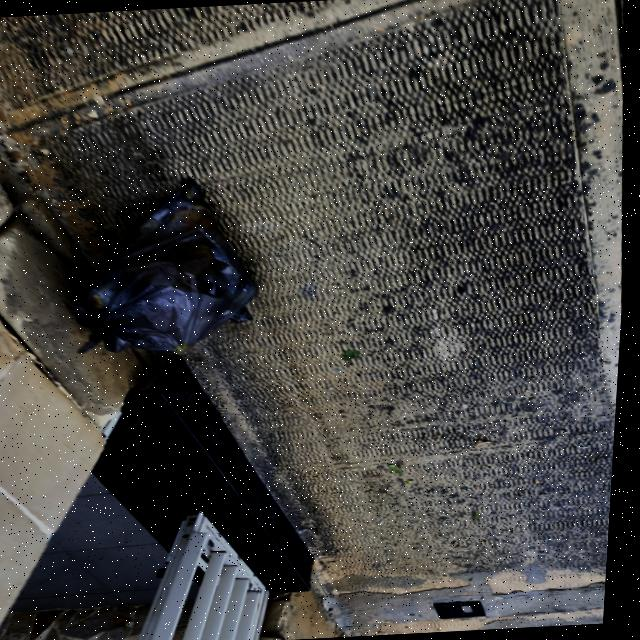Mixed Waste -Black Bag-: (71, 179, 268, 362)
